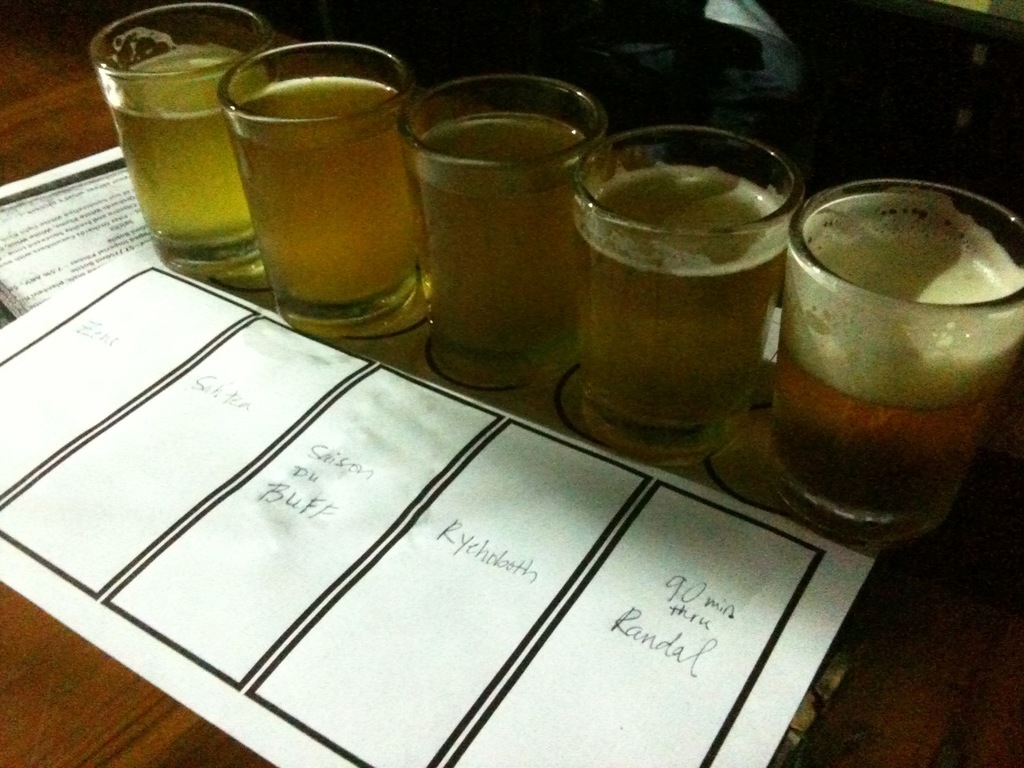Beer: (761, 175, 1008, 552), (572, 170, 784, 464), (413, 116, 576, 381), (235, 75, 405, 320), (105, 41, 277, 249)
